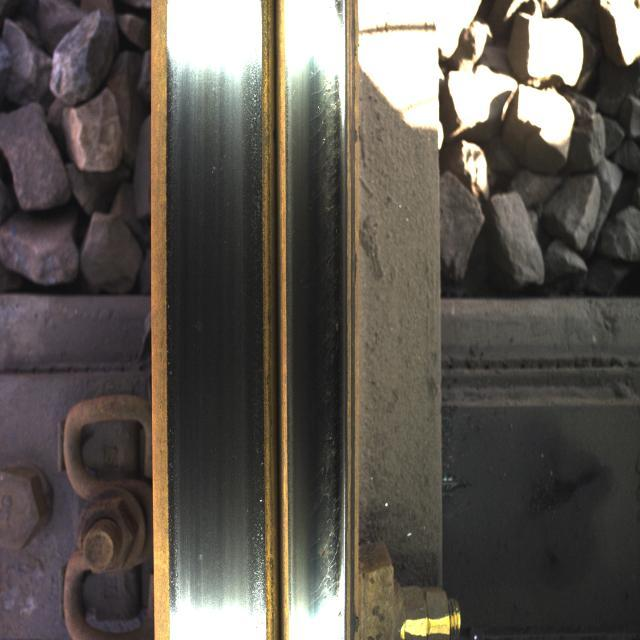break: (175, 45, 246, 577)
normal: (303, 48, 352, 612)
